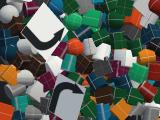Left: (21, 2, 68, 61)
Right: (48, 72, 86, 120)
